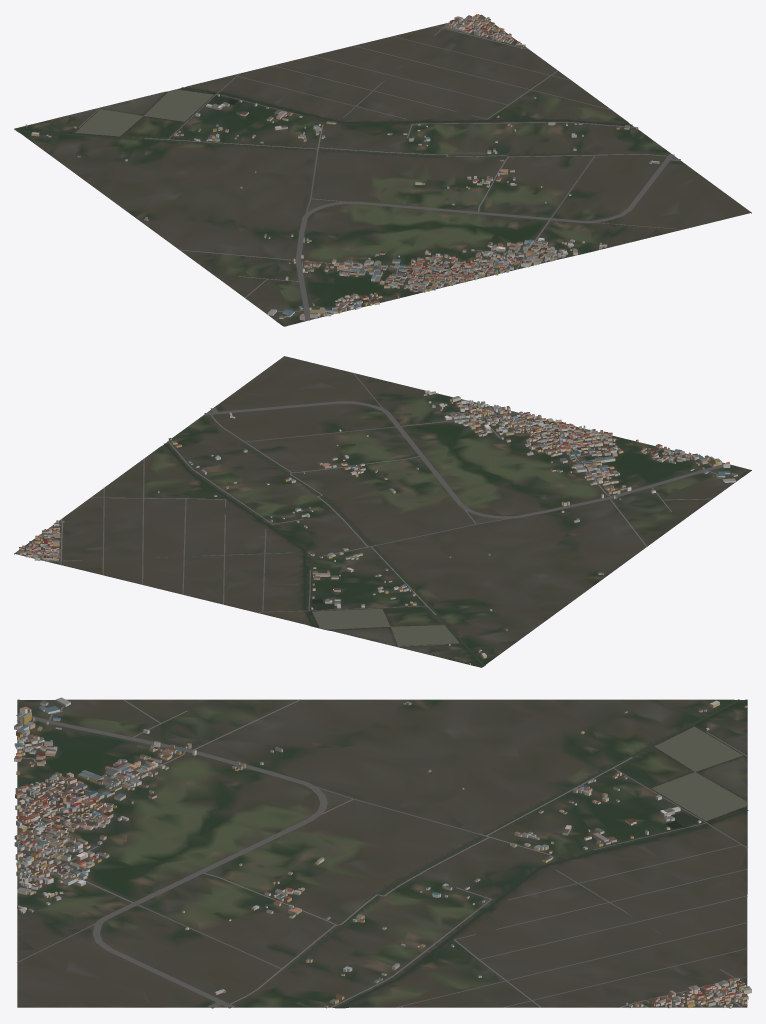
The picture shows the model from 3 angles, top to bottom: view 1: azimuth 30°, elevation 25°; view 2: azimuth 150°, elevation 25°; view 3: azimuth 270°, elevation 25°; orthographic projection. The views are drawn at different scales.
Parts seen in each view (by area): view 1: ground, buildings, roads, water; view 2: ground, buildings, roads, water; view 3: ground, buildings, roads, water.
Part boxes in pixels (x1=…): ground: x1=14, y1=14, x2=751, y2=326; buildings: x1=25, y1=14, x2=659, y2=320; roads: x1=78, y1=16, x2=683, y2=320; water: x1=16, y1=87, x2=632, y2=324; ground: x1=14, y1=356, x2=751, y2=667; buildings: x1=19, y1=390, x2=737, y2=664; roads: x1=16, y1=372, x2=723, y2=646; water: x1=164, y1=443, x2=748, y2=666; ground: x1=17, y1=699, x2=747, y2=1008; buildings: x1=14, y1=697, x2=751, y2=1008; roads: x1=16, y1=699, x2=747, y2=1008; water: x1=24, y1=699, x2=748, y2=1008.
Size of the model in its own units: 1406 by 20.38 by 1417.
